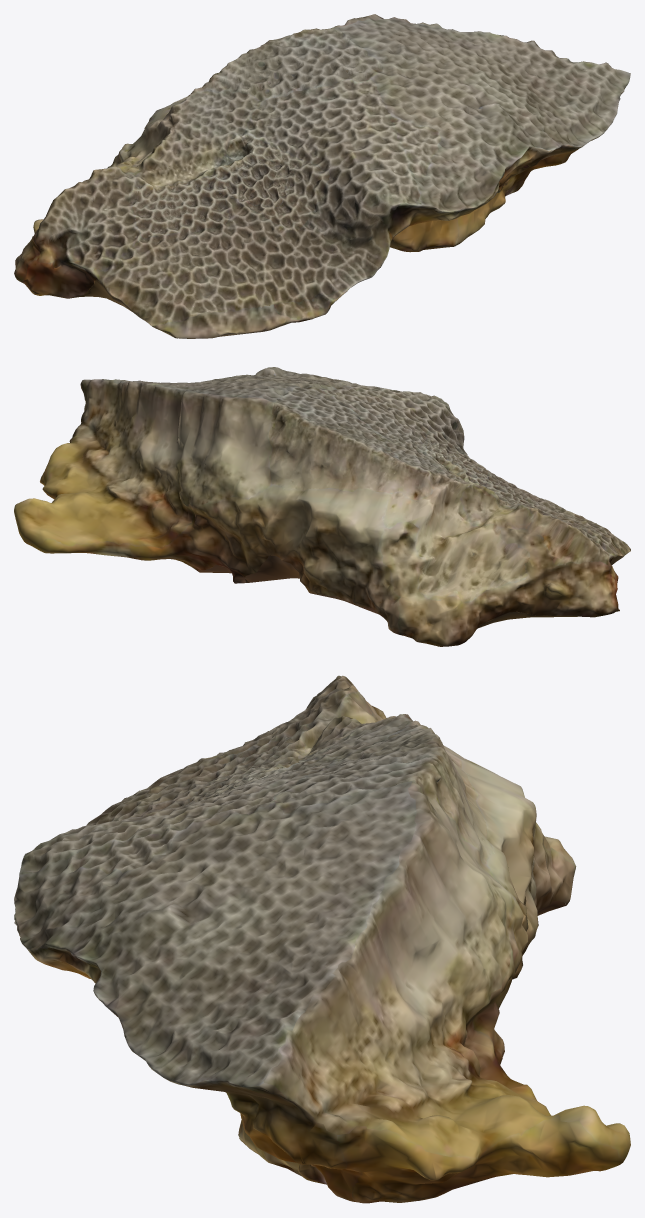
The model's file is gardineroseris_simplified.glb.
The picture shows the model from 3 angles, top to bottom: view 1: azimuth 30°, elevation 25°; view 2: azimuth 150°, elevation 25°; view 3: azimuth 270°, elevation 25°; orthographic projection. The views are drawn at different scales.
Visible parts, largest first — view 1: Object_3, Object_2; view 2: Object_3, Object_2; view 3: Object_3.
Boxes of the visible parts, x1,y1,x2,y2 form: Object_3: (14, 14, 630, 338); Object_2: (16, 239, 453, 338); Object_3: (14, 367, 630, 646); Object_2: (144, 551, 629, 646); Object_3: (14, 675, 630, 1203).
Bounding box in the file's own units: 18.96 × 6.36 × 10.89.
Materials: 2 (2 with a texture image).
